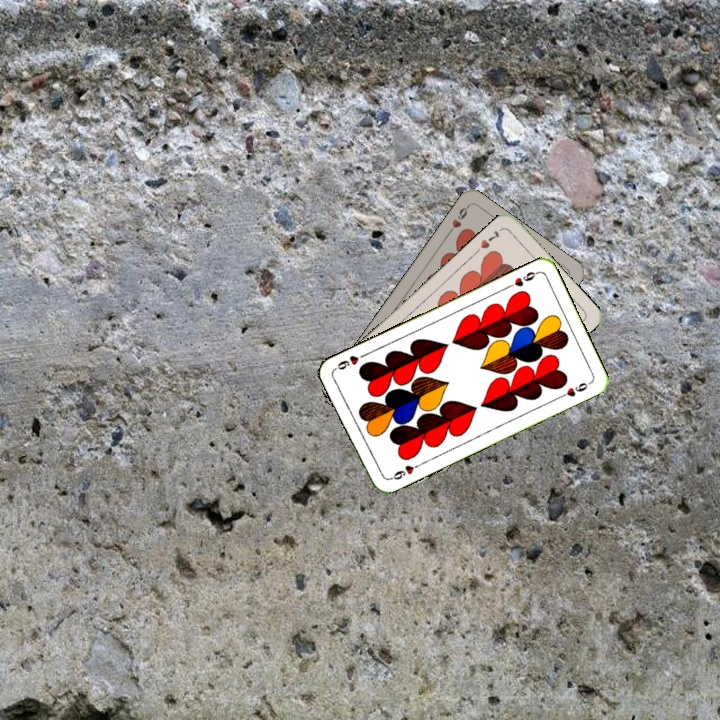H7: (476, 226, 503, 251)
H9: (443, 202, 472, 237), (385, 459, 423, 483), (503, 267, 540, 291)
